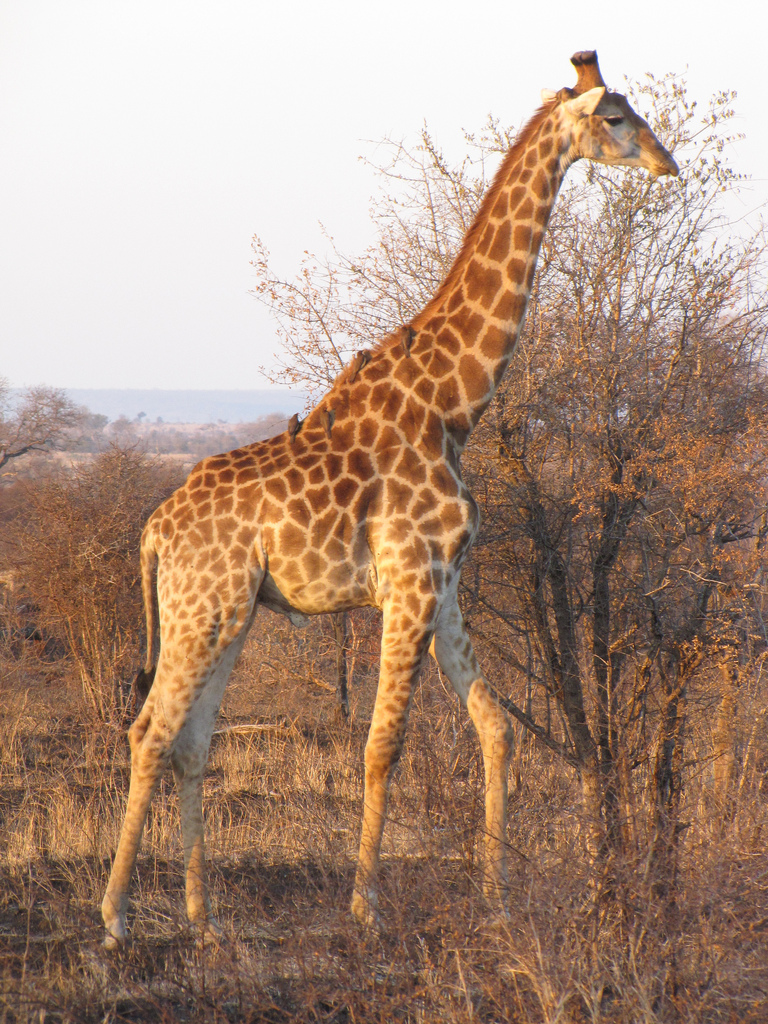giraffe: (71, 60, 704, 929)
